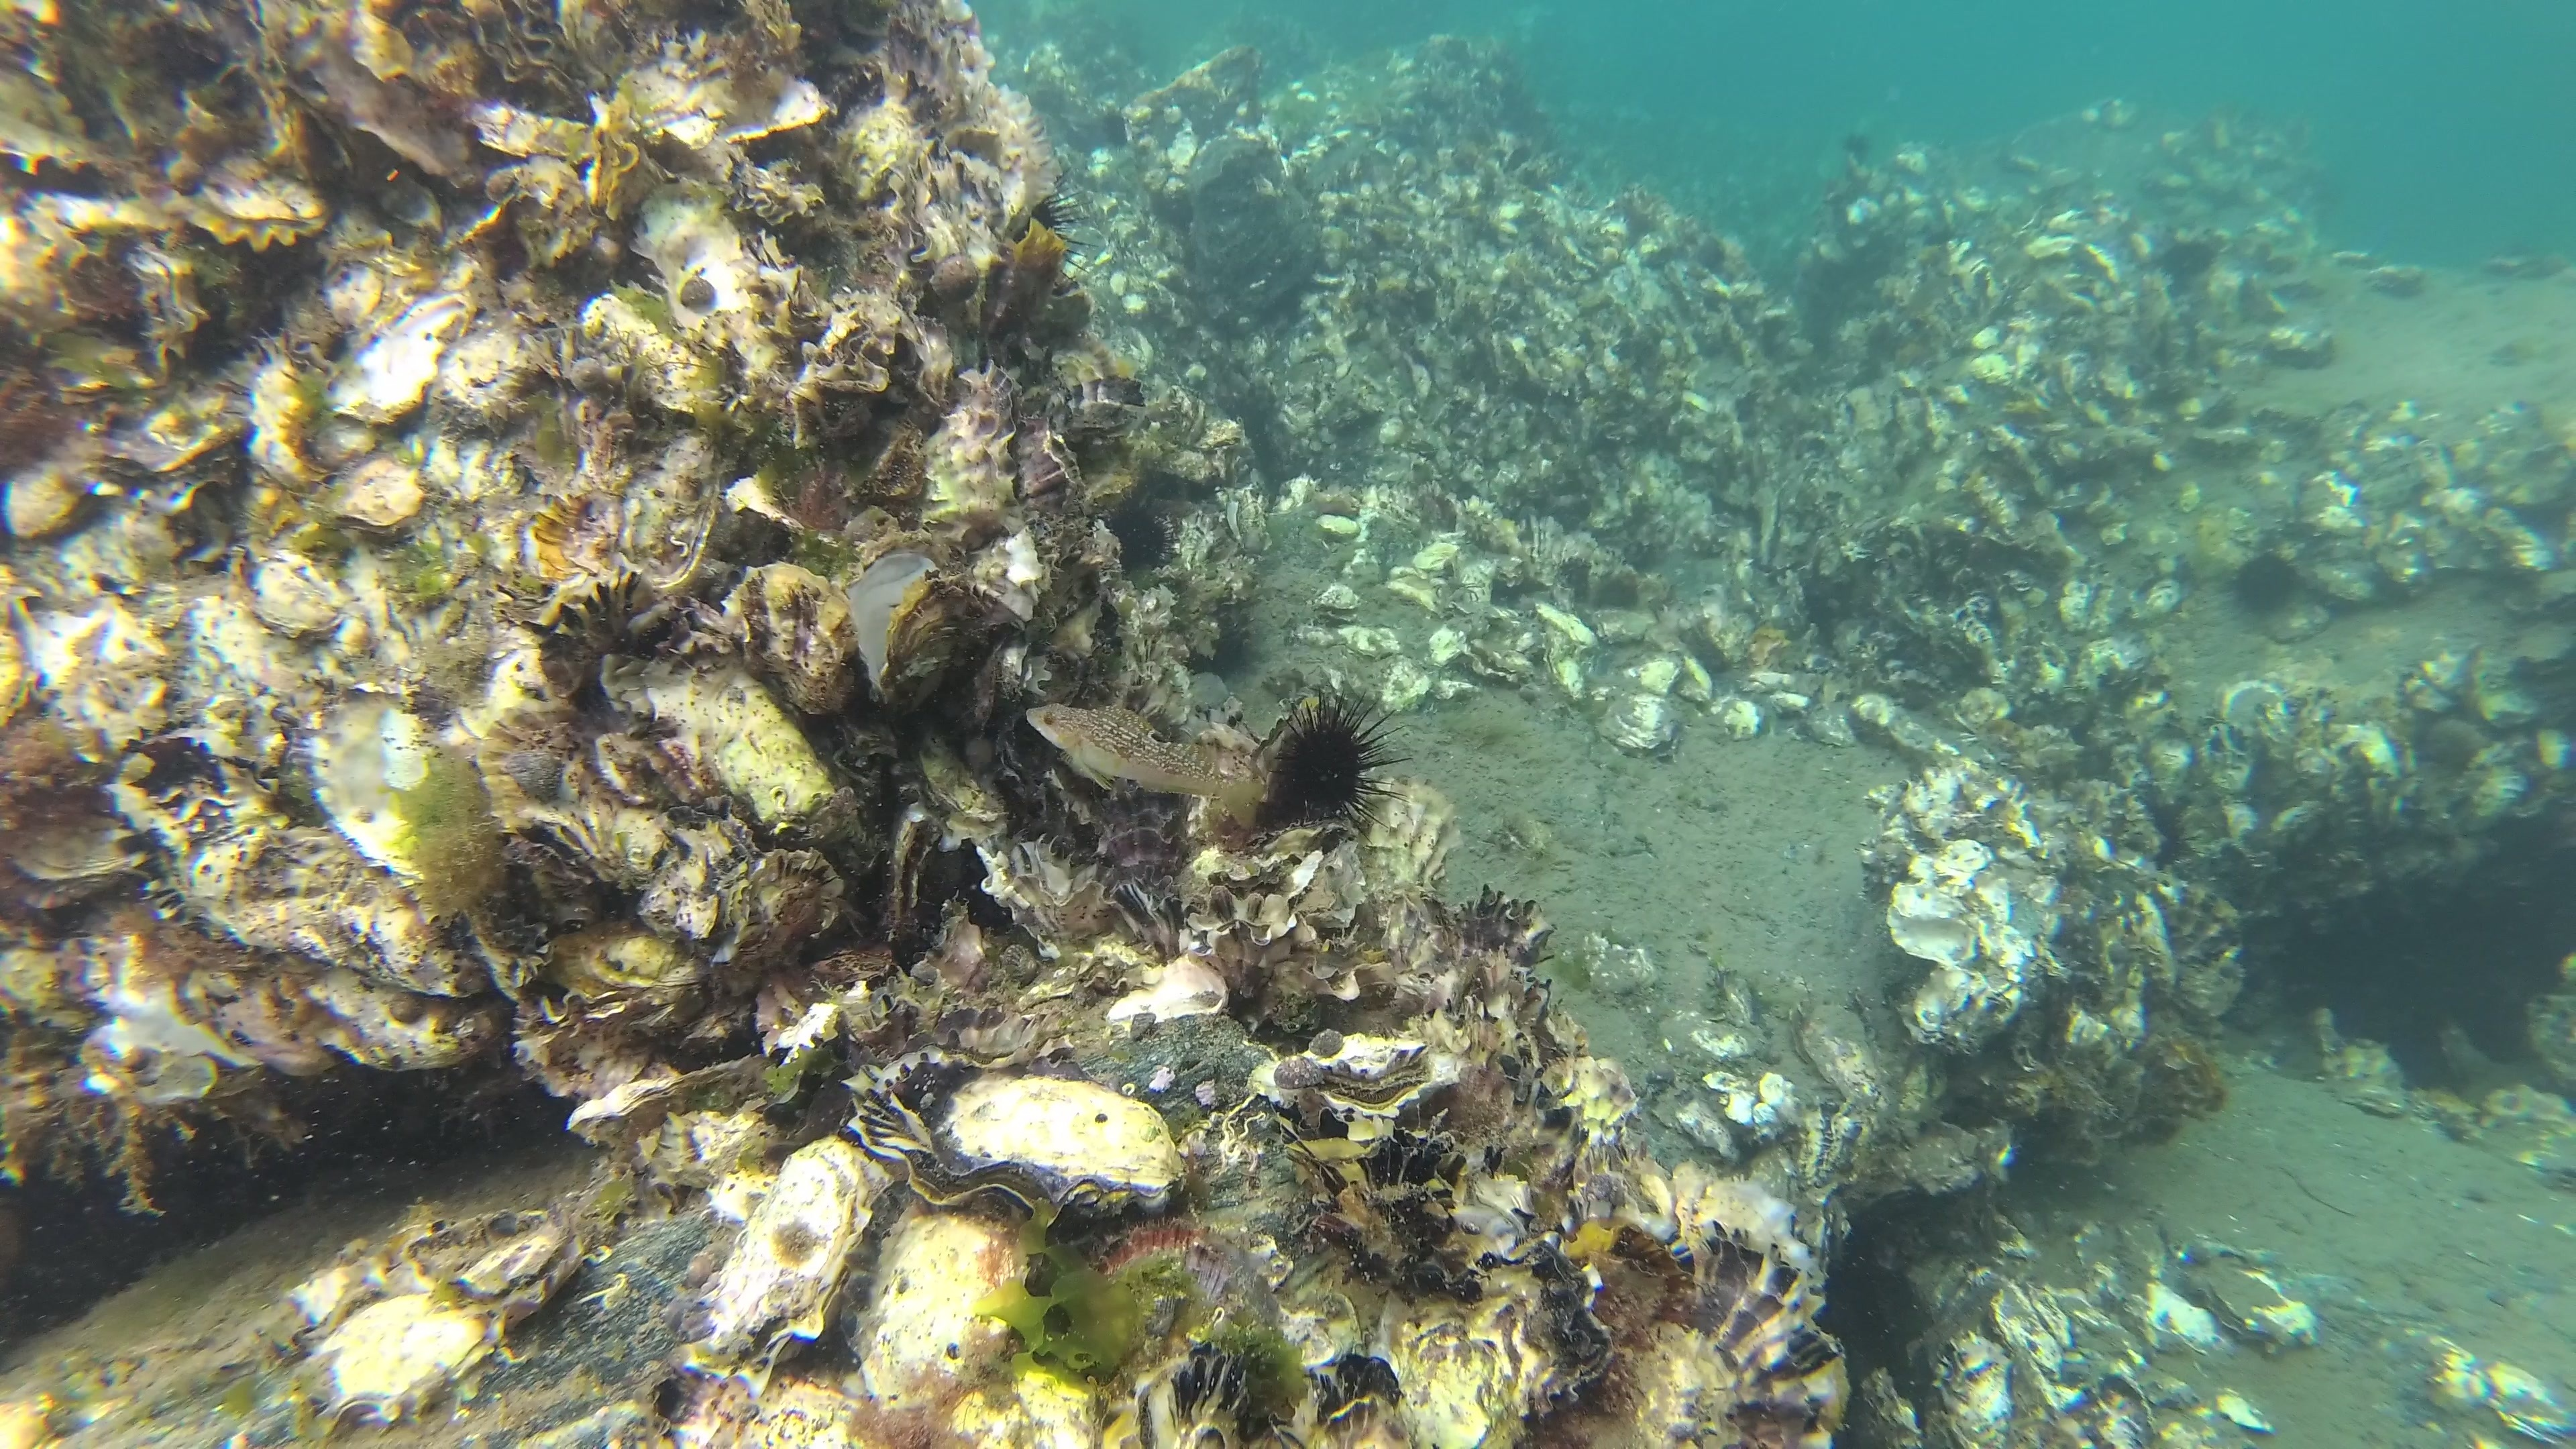echinus: (1254, 685, 1415, 842), (1099, 499, 1180, 575), (2226, 545, 2311, 616), (1023, 173, 1088, 257)
